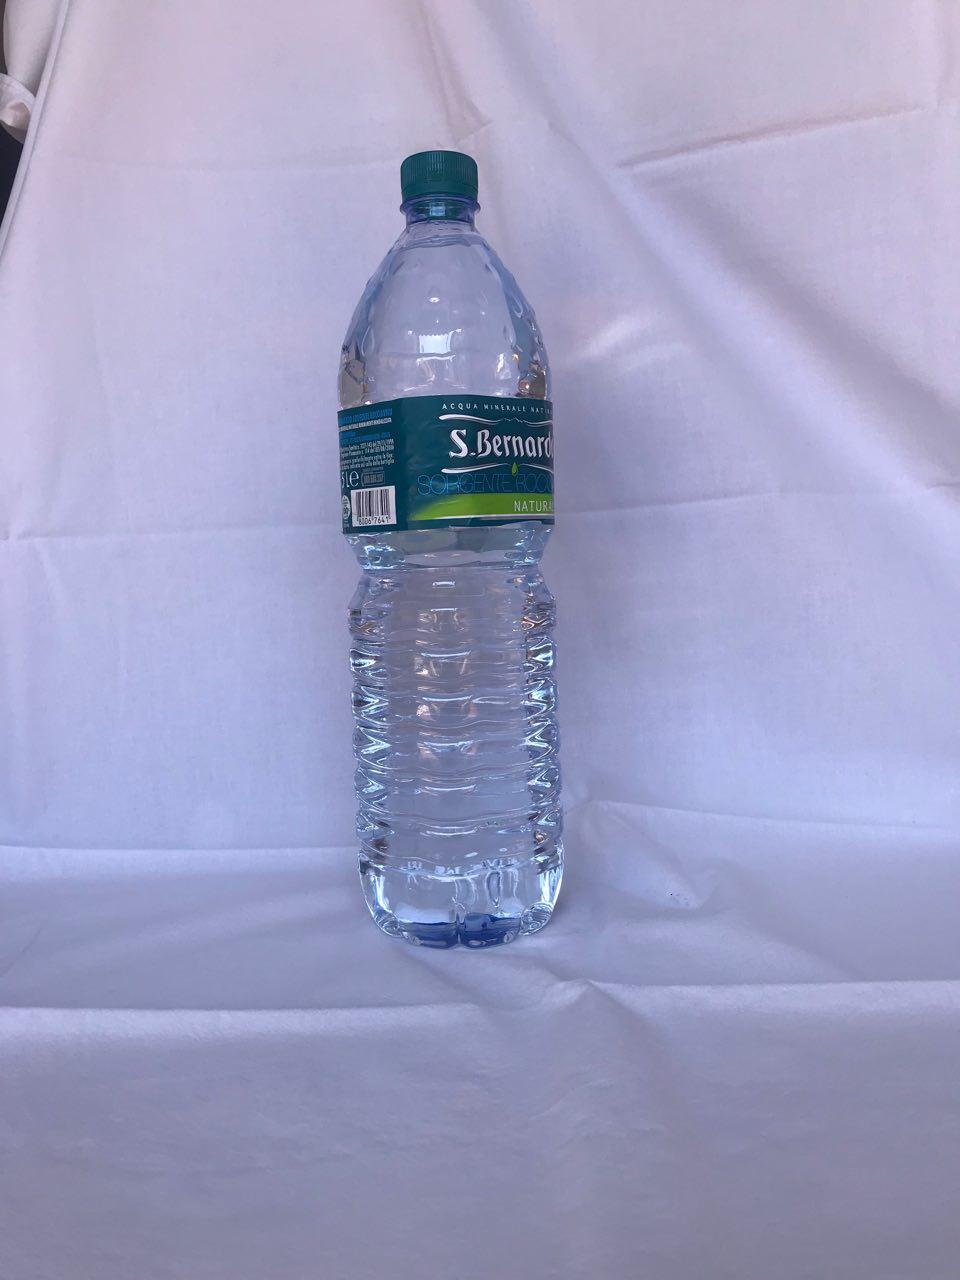san_bernardo: (333, 147, 566, 950)
